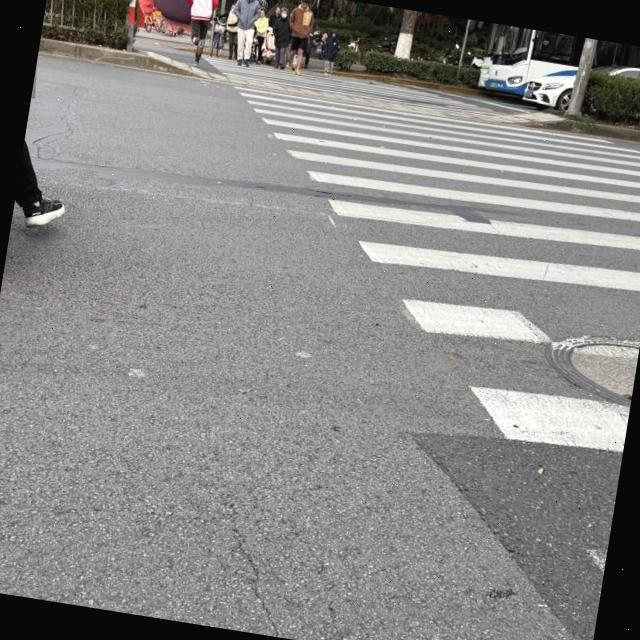curb: (39, 38, 209, 78), (307, 67, 480, 93), (518, 119, 640, 142)
